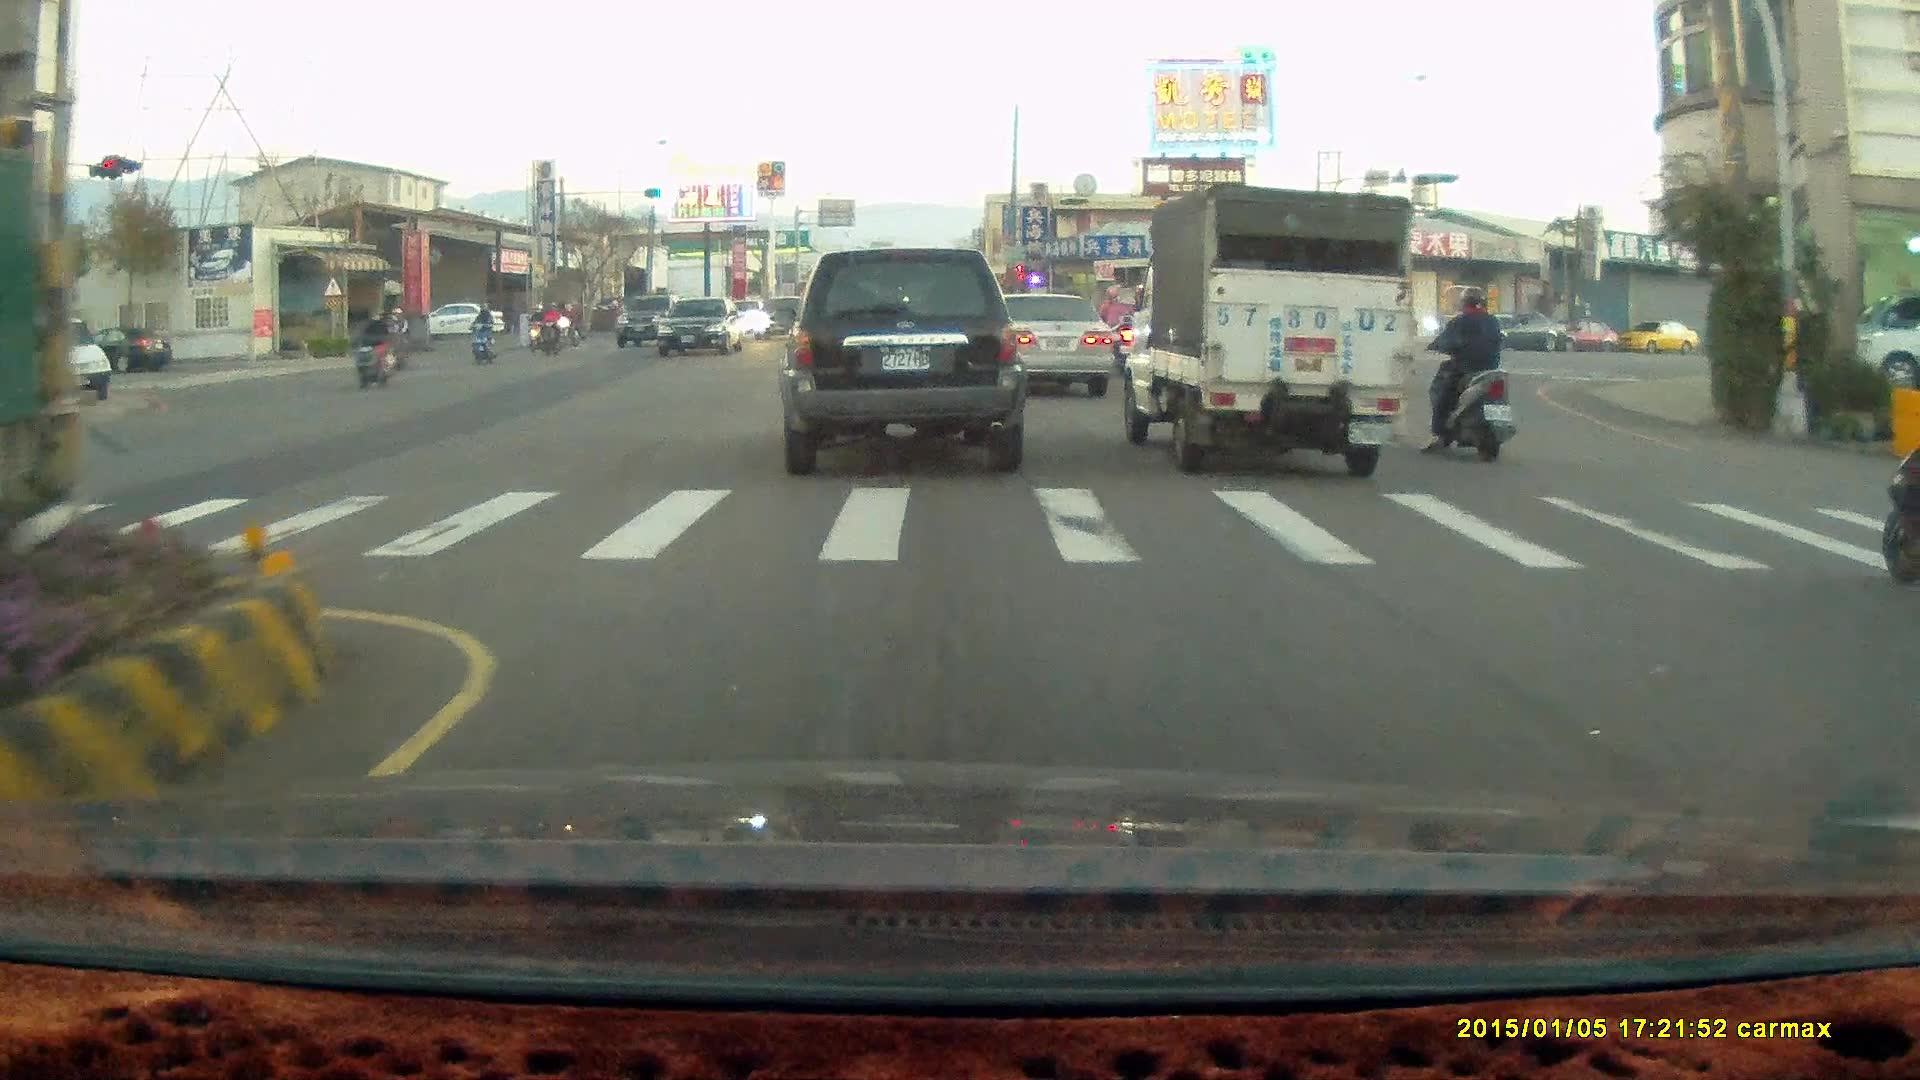rider: (1417, 280, 1516, 465), (1875, 440, 1920, 582), (356, 311, 395, 387), (468, 301, 497, 363), (536, 297, 565, 354), (525, 299, 554, 350)
vehicle: (1120, 181, 1412, 475), (776, 247, 1026, 475), (975, 290, 1119, 399), (975, 289, 1112, 394), (20, 314, 114, 403), (654, 295, 747, 359), (1853, 313, 1920, 391), (1464, 311, 1571, 355), (427, 302, 505, 341), (1554, 319, 1621, 354)
